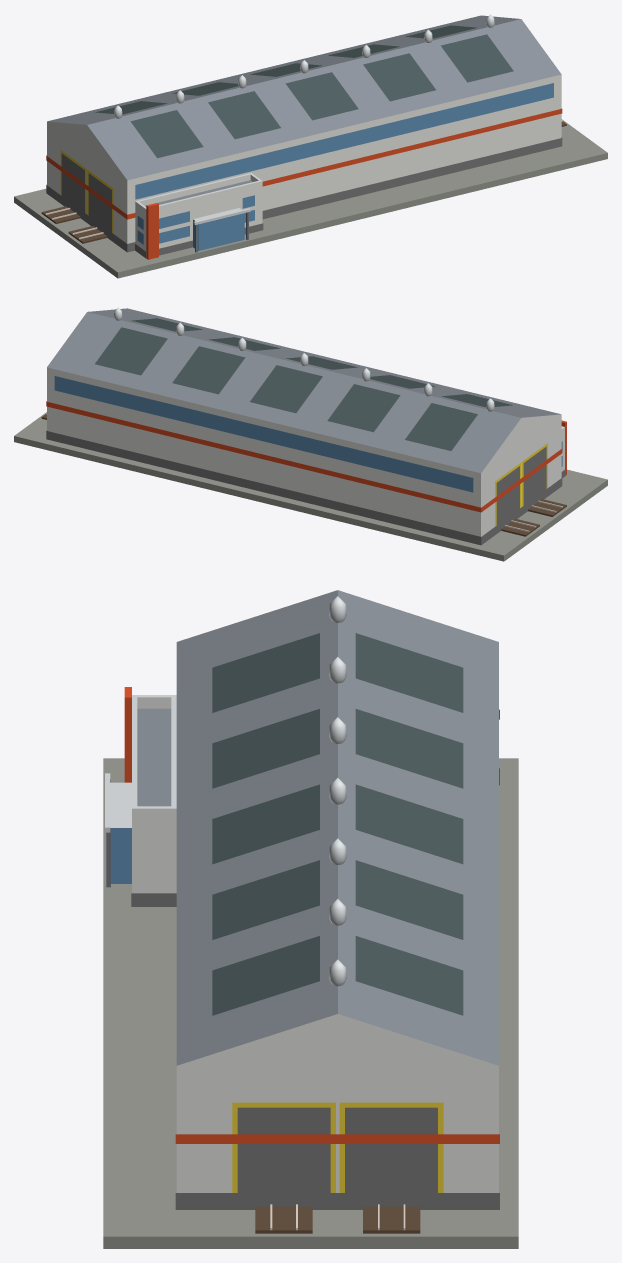
Rendered from mashup-main-top-prebuilt.fbx.
3 renders of one model, top to bottom at view 1: azimuth 30°, elevation 25°; view 2: azimuth 150°, elevation 25°; view 3: azimuth 270°, elevation 25°, orthographic. The views are drawn at different scales.
Visible parts, largest first — view 1: a1082/0/mashup-main-top-prebuilt; view 2: a1082/0/mashup-main-top-prebuilt; view 3: a1082/0/mashup-main-top-prebuilt.
Boxes of the visible parts, x1,y1,x2,y2 form: a1082/0/mashup-main-top-prebuilt: (14, 14, 607, 278); a1082/0/mashup-main-top-prebuilt: (14, 307, 607, 561); a1082/0/mashup-main-top-prebuilt: (103, 590, 518, 1248).
Size of the model in its own units: 63.2 by 14.3 by 23.2.
